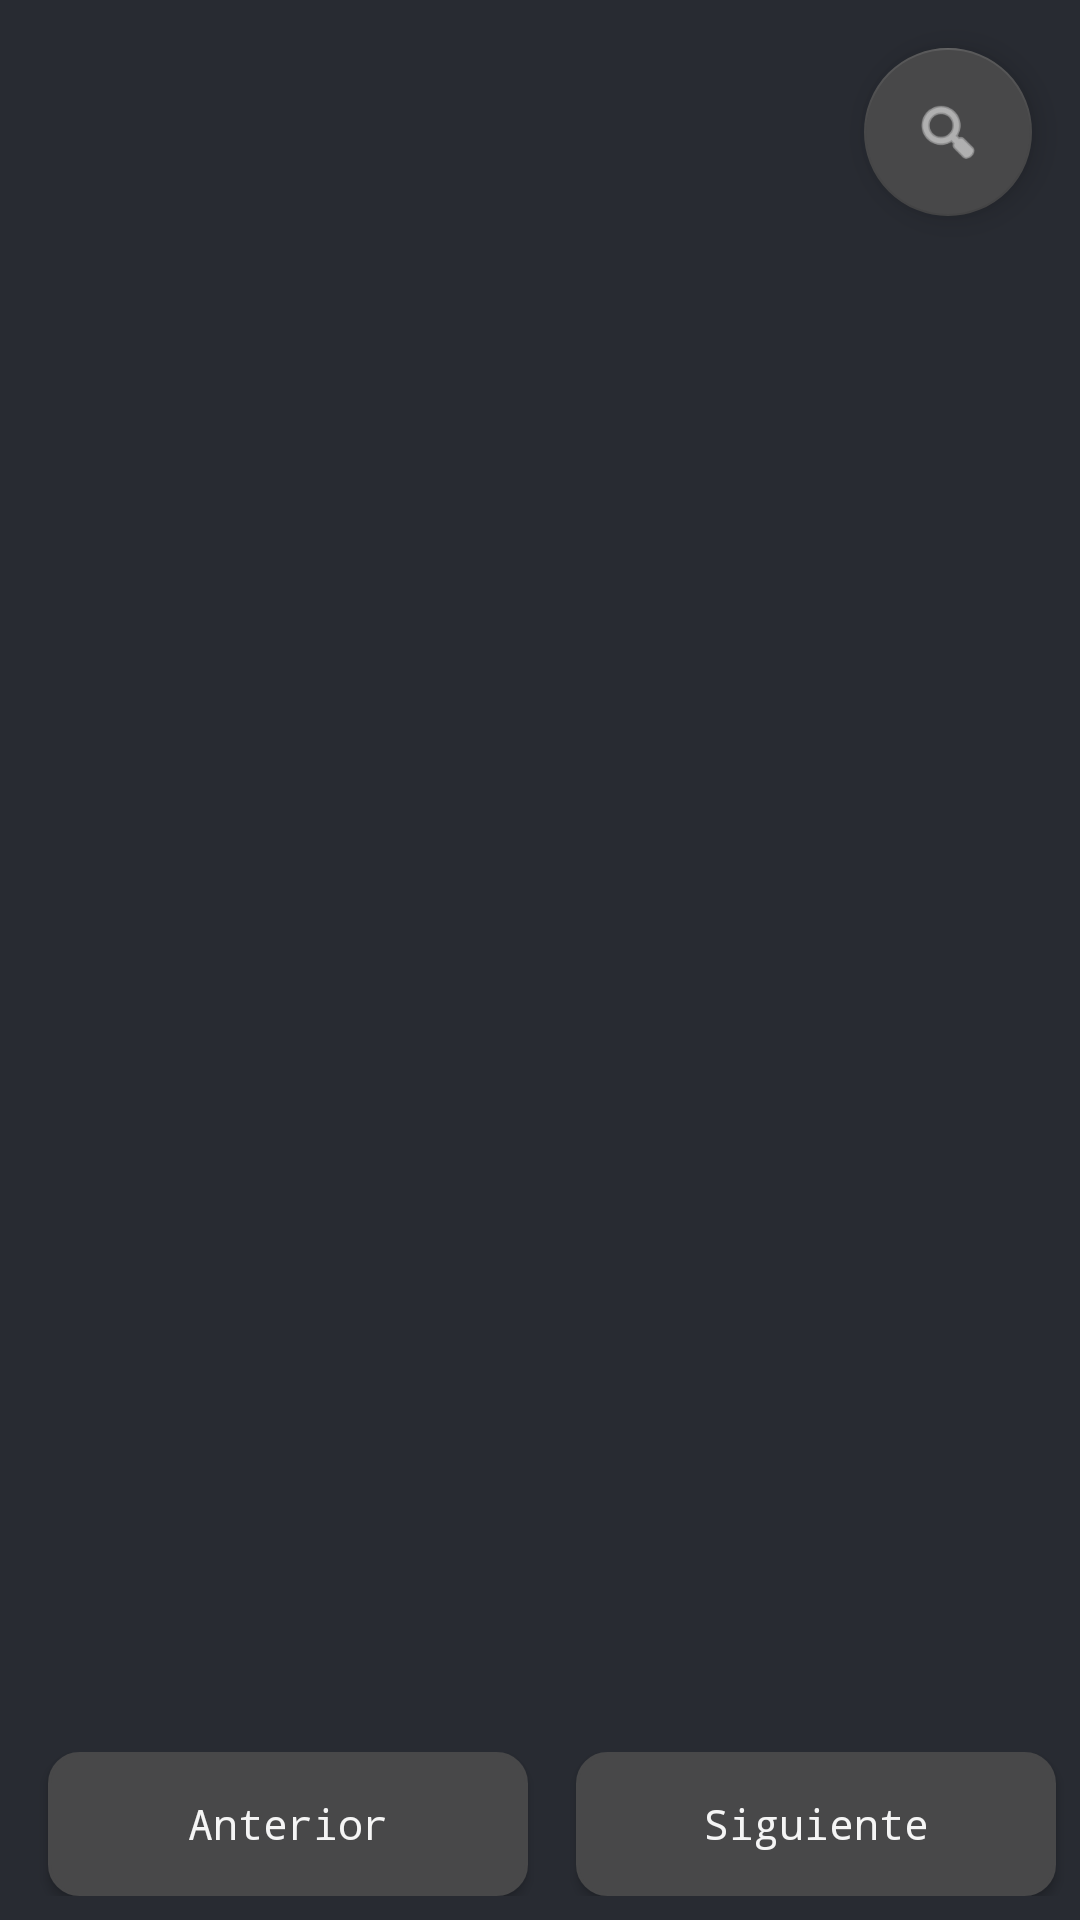

Icons on this 1080 x 1920 Android screen, each with the point to tap as point (x, y):
Filtrar: point (948, 132)
